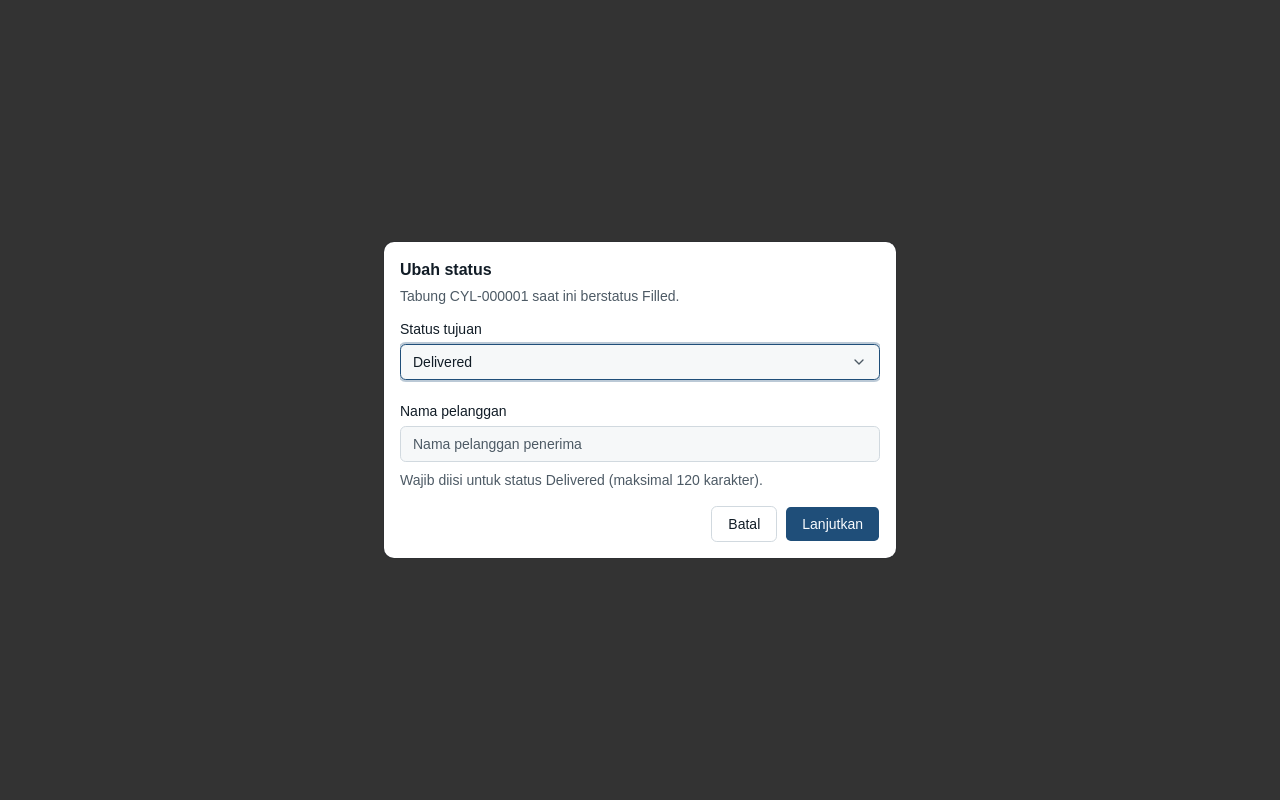
Test case: StatusChangeDialog › mewajibkan nama pelanggan saat tujuan Delivered
Click the dropdown named "Status tujuan" at [443, 362], box [400,344,880,380]
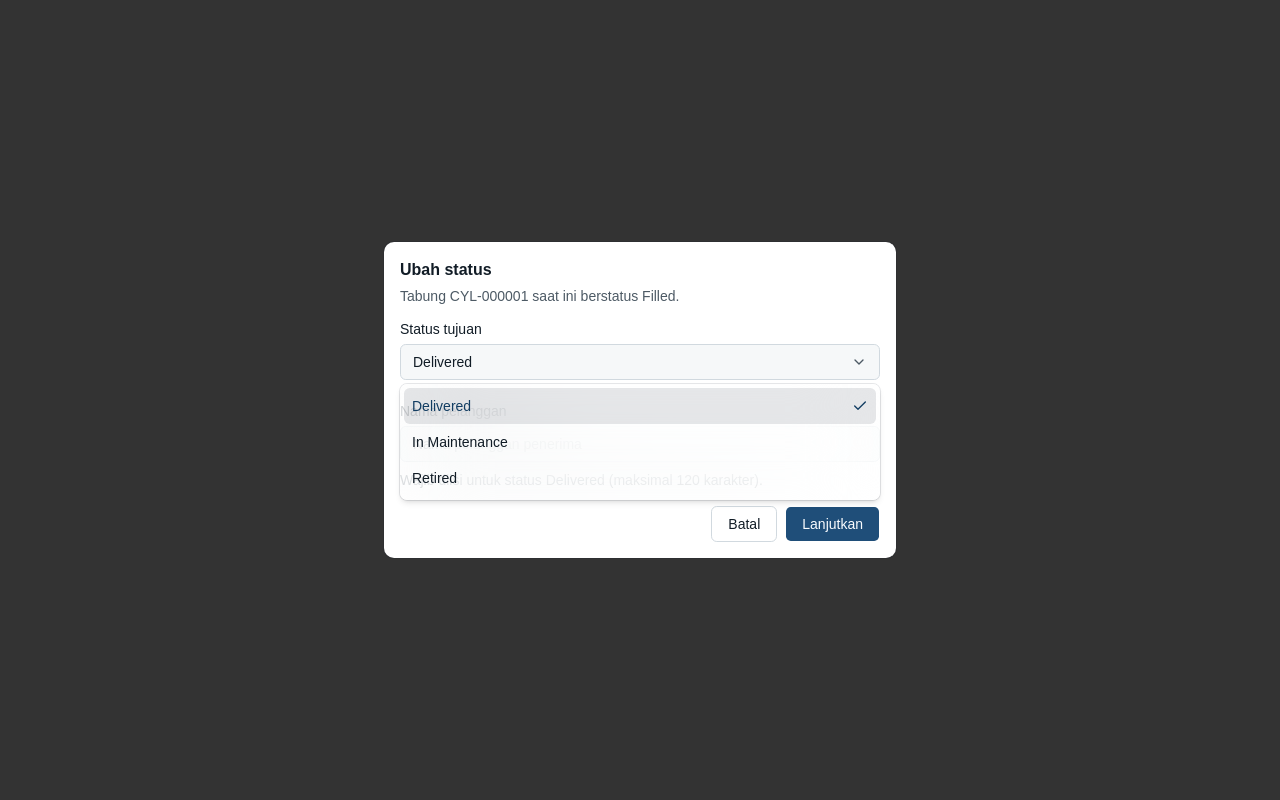
Click the option "Delivered" at [442, 406], box [404,388,876,424]
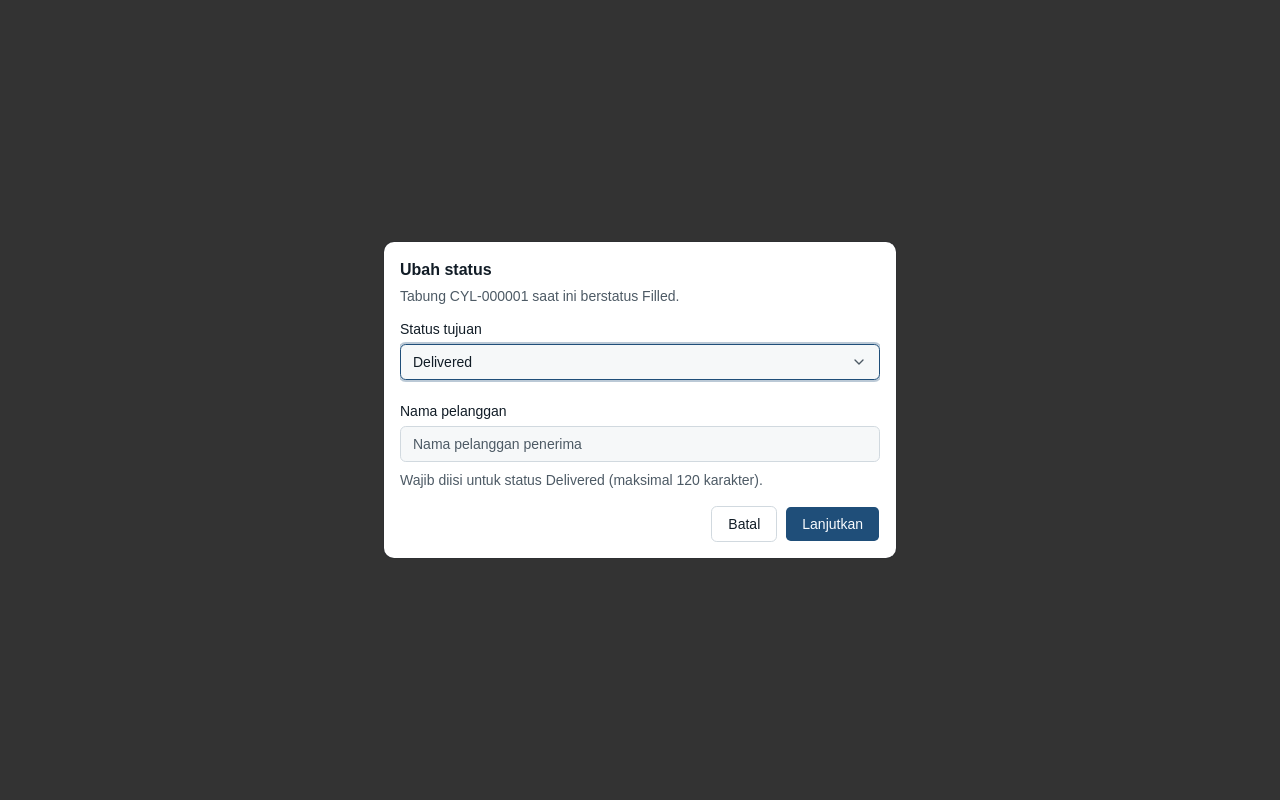
Expected: the field labelled "Nama pelanggan" is shown, [400,426,880,462]
Click the button "Lanjutkan" at [833, 524], box [785,506,880,542]
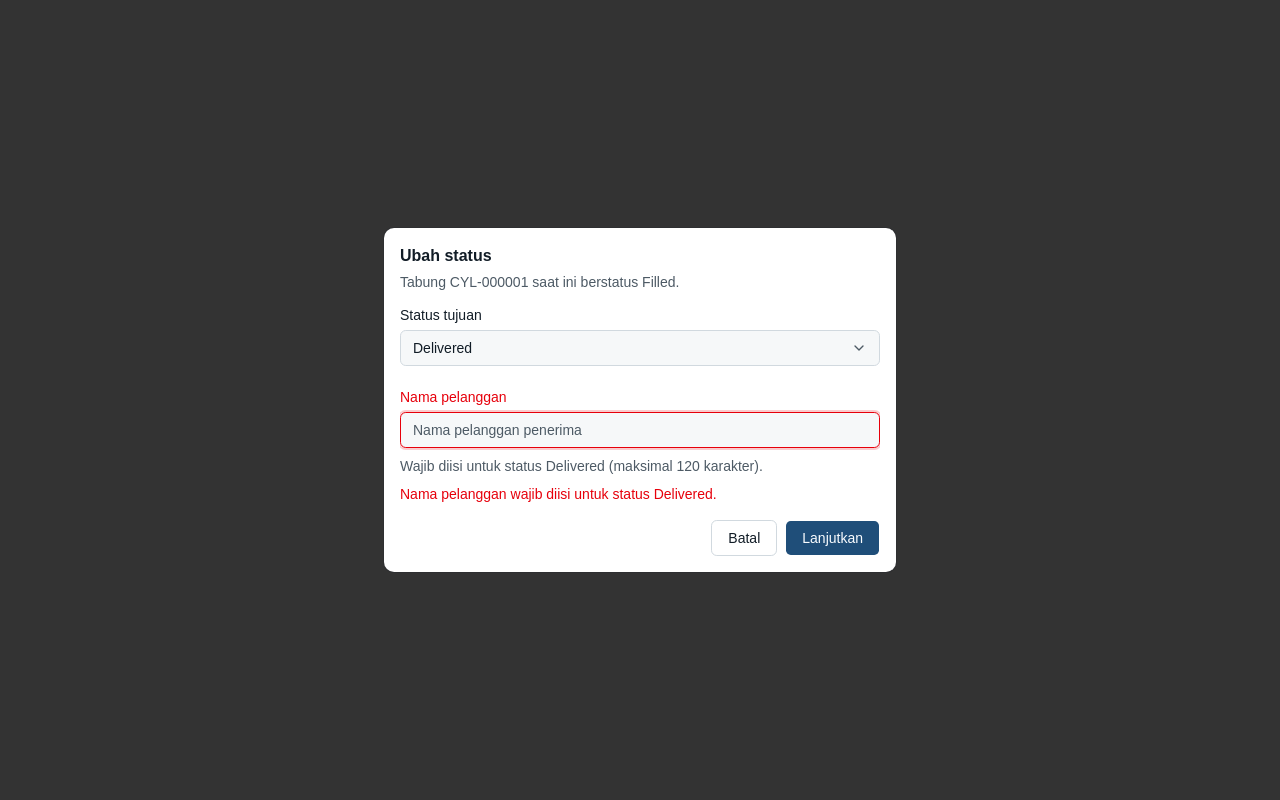
Expected: the text "Nama pelanggan wajib diisi untuk status Delivered." is shown, [400,486,717,502]
